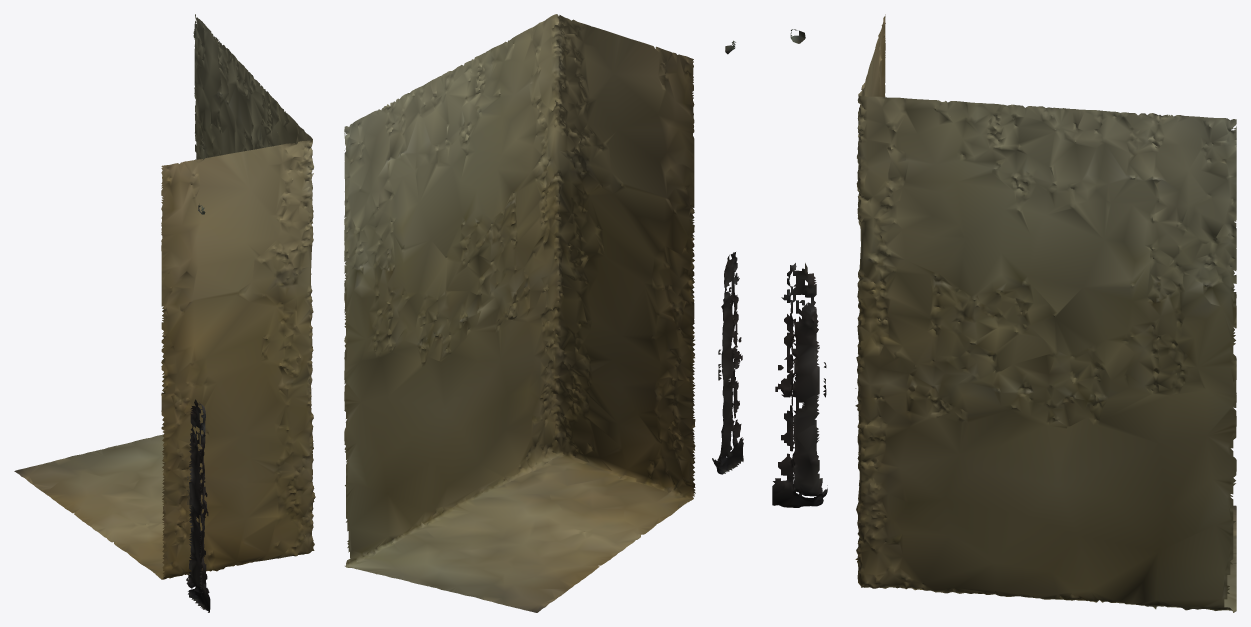
The model's file is medium.glb.
3 renders of one model, left to right at view 1: azimuth 30°, elevation 25°; view 2: azimuth 150°, elevation 25°; view 3: azimuth 270°, elevation 25°, orthographic. The views are drawn at different scales.
Size of the model in its own units: 0.7442 by 1.63 by 1.38.
